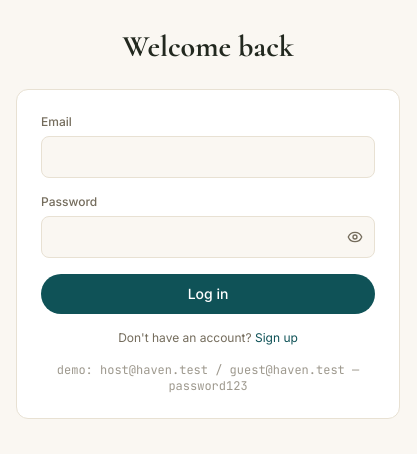
Test: LoginPage › shows a server error message when login fails
The width and height of the screenshot is (417, 454).
Type "guest@haven.test" into the field labelled "Email".
click(208, 157); type("guest@haven.test")  # box x1=41 y1=136 x2=375 y2=178
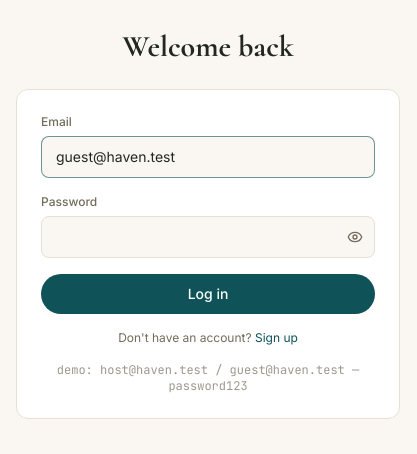
Type "wrong-password" into the password field labelled "Password".
click(208, 237); type("wrong-password")  # box x1=41 y1=216 x2=375 y2=258
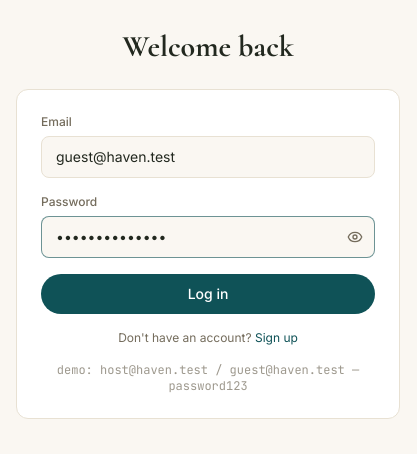
Click the button "Log in".
click(208, 294)  # box x1=41 y1=274 x2=375 y2=314
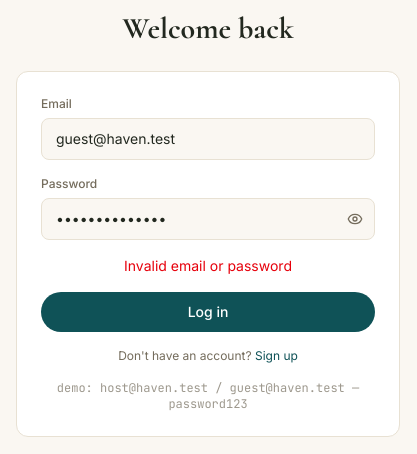
Now the text "Invalid email or password" is shown, box x1=124 y1=257 x2=292 y2=274
